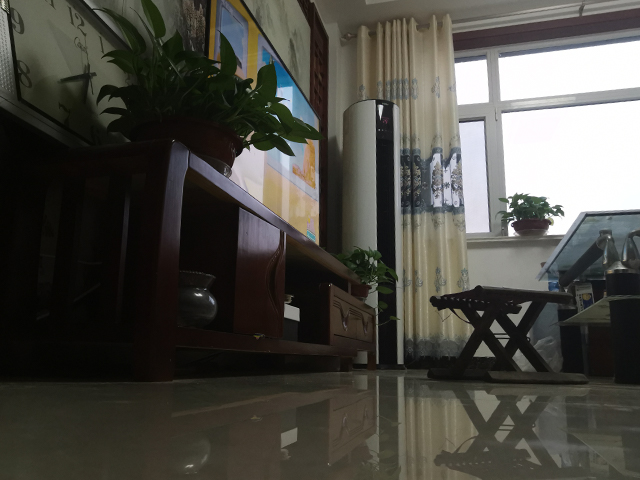cabinet: (1, 135, 379, 383)
curtain: (353, 14, 476, 368)
stool: (423, 283, 590, 387)
table: (531, 207, 640, 386)
